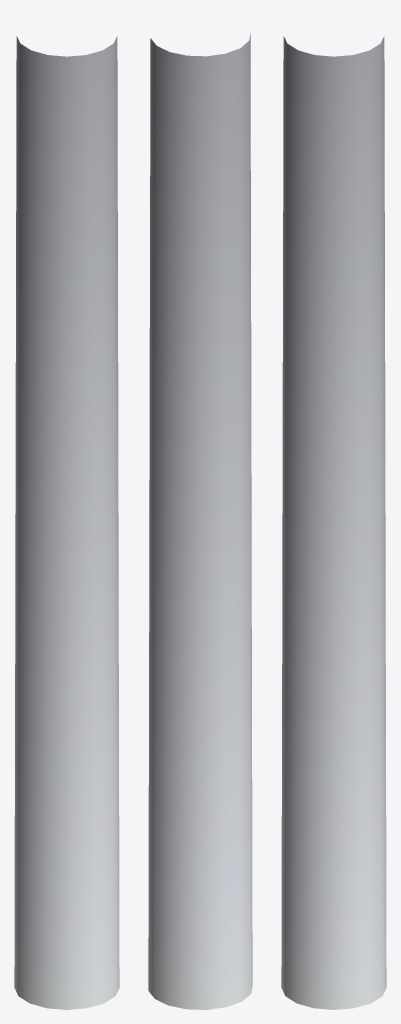
File: KIT_Pillar_Round_0.8.glb
3 views of the same model, side by side, from view 1: azimuth 90°, elevation 25°; view 2: azimuth 210°, elevation 25°; view 3: azimuth 270°, elevation 25° (orthographic).
Visible parts, largest first — view 1: KIT_Pillar_Round_0.8; view 2: KIT_Pillar_Round_0.8; view 3: KIT_Pillar_Round_0.8.
Boxes of the visible parts, x1,y1,x2,y2 form: KIT_Pillar_Round_0.8: (14, 36, 119, 1009); KIT_Pillar_Round_0.8: (148, 33, 252, 1009); KIT_Pillar_Round_0.8: (281, 36, 386, 1009).
Bounding box in the file's own units: 0.4 × 4 × 0.4.
Materials: 1 (1 with a texture image).
